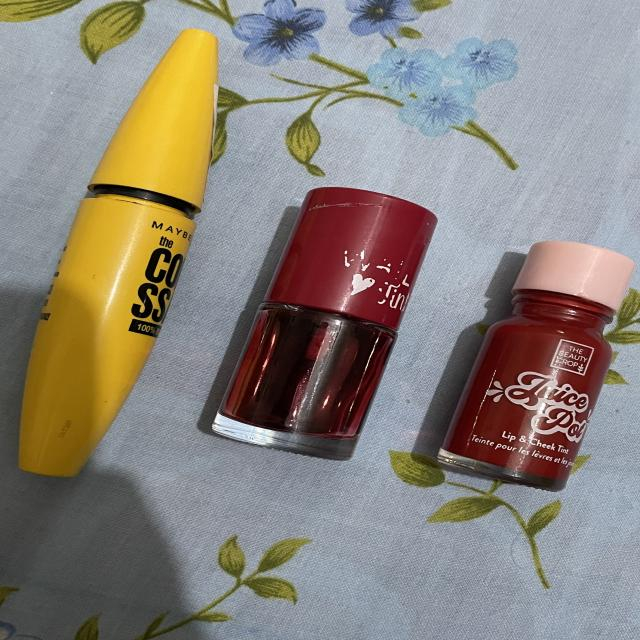Tint: (196, 175, 454, 462), (434, 218, 640, 494)
mascara: (0, 6, 232, 494)
